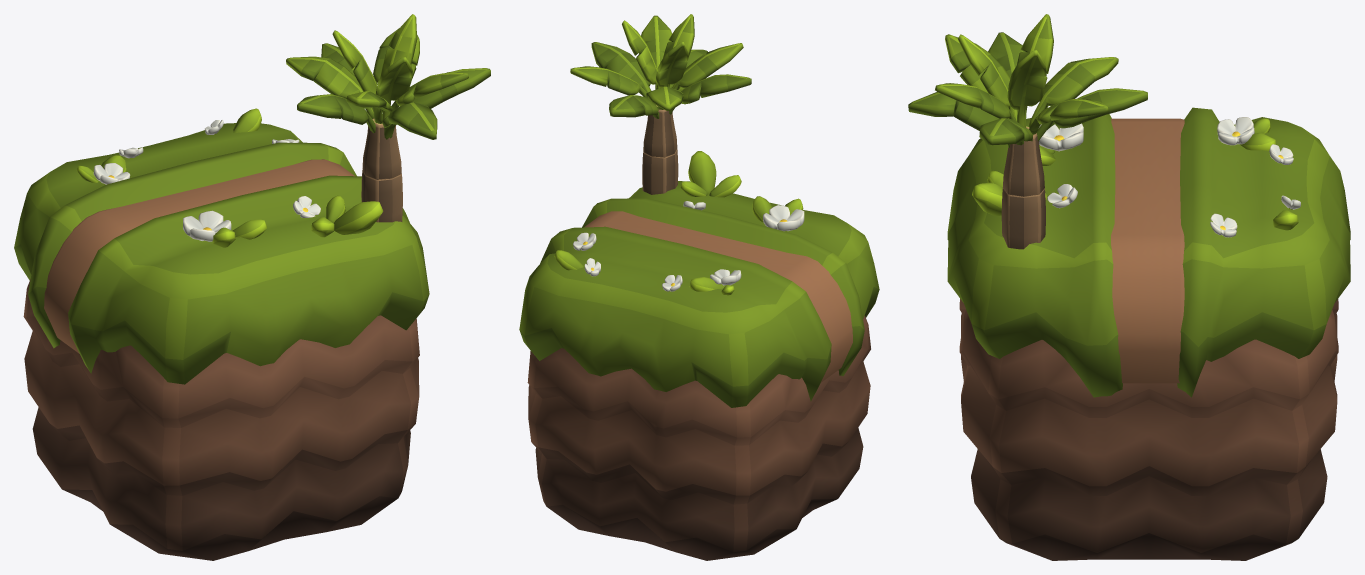
Rendered from küp.fbx.
The picture shows the model from 3 angles, left to right: view 1: azimuth 30°, elevation 25°; view 2: azimuth 150°, elevation 25°; view 3: azimuth 270°, elevation 25°; orthographic projection. The views are drawn at different scales.
Parts seen in each view (by area): view 1: Spring_Cube1, Tree_Spring, Road1, Spring_Envinroment; view 2: Spring_Cube1, Tree_Spring, Road1, Spring_Envinroment; view 3: Spring_Cube1, Tree_Spring, Road1, Spring_Envinroment.
Boxes of the visible parts, left/top/right/bottom form: Spring_Cube1: left=14, top=123, right=429, bottom=560; Tree_Spring: left=286, top=14, right=490, bottom=222; Road1: left=44, top=159, right=354, bottom=353; Spring_Envinroment: left=76, top=108, right=383, bottom=247; Spring_Cube1: left=519, top=181, right=879, bottom=560; Tree_Spring: left=570, top=14, right=751, bottom=194; Road1: left=584, top=211, right=852, bottom=382; Spring_Envinroment: left=554, top=151, right=804, bottom=295; Spring_Cube1: left=947, top=107, right=1350, bottom=560; Tree_Spring: left=908, top=14, right=1147, bottom=249; Road1: left=1111, top=118, right=1184, bottom=383; Spring_Envinroment: left=972, top=117, right=1300, bottom=237.
Size of the model in its own units: 122 by 157 by 117.
